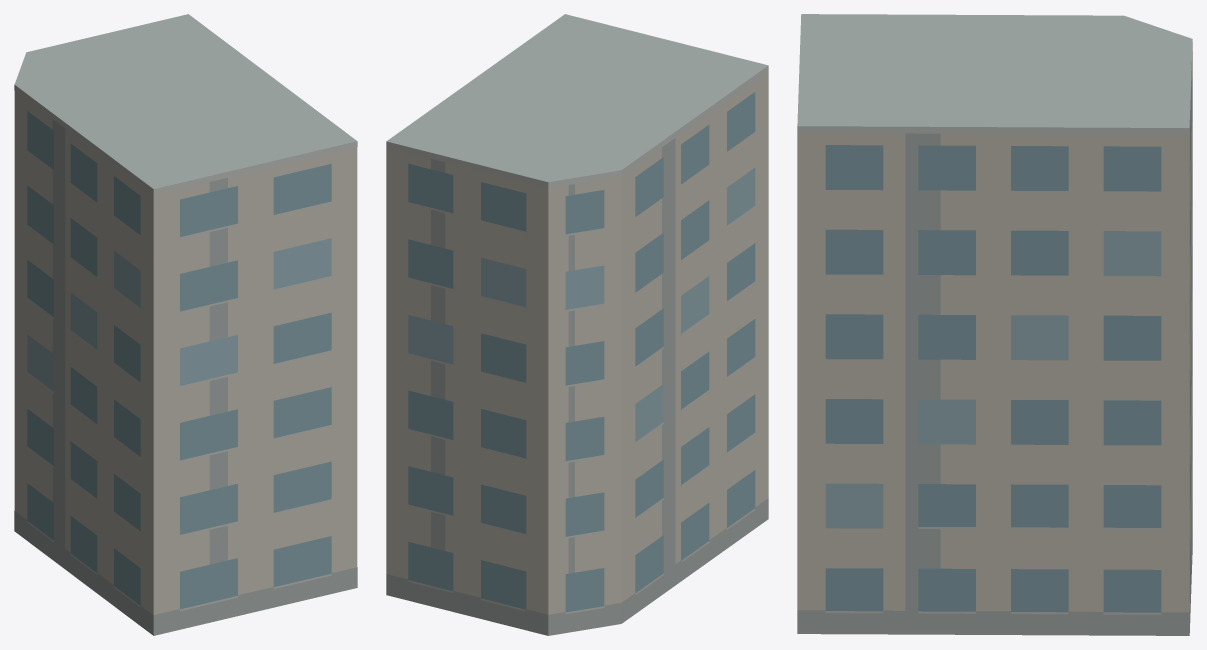
Rendered from survey-upis-32990811.glb.
3 views of the same model, side by side, from view 1: azimuth 30°, elevation 25°; view 2: azimuth 150°, elevation 25°; view 3: azimuth 270°, elevation 25° (orthographic). The views are drawn at different scales.
Parts seen in each view (by area): view 1: survey-upis-32990811.tmp; view 2: survey-upis-32990811.tmp; view 3: survey-upis-32990811.tmp.
Part boxes in pixels (x1,y1,x2,y2): survey-upis-32990811.tmp: (14,14,357,635); survey-upis-32990811.tmp: (386,14,768,635); survey-upis-32990811.tmp: (797,14,1192,635).
Bounding box in the file's own units: 8.83 × 18.3 × 12.92.
